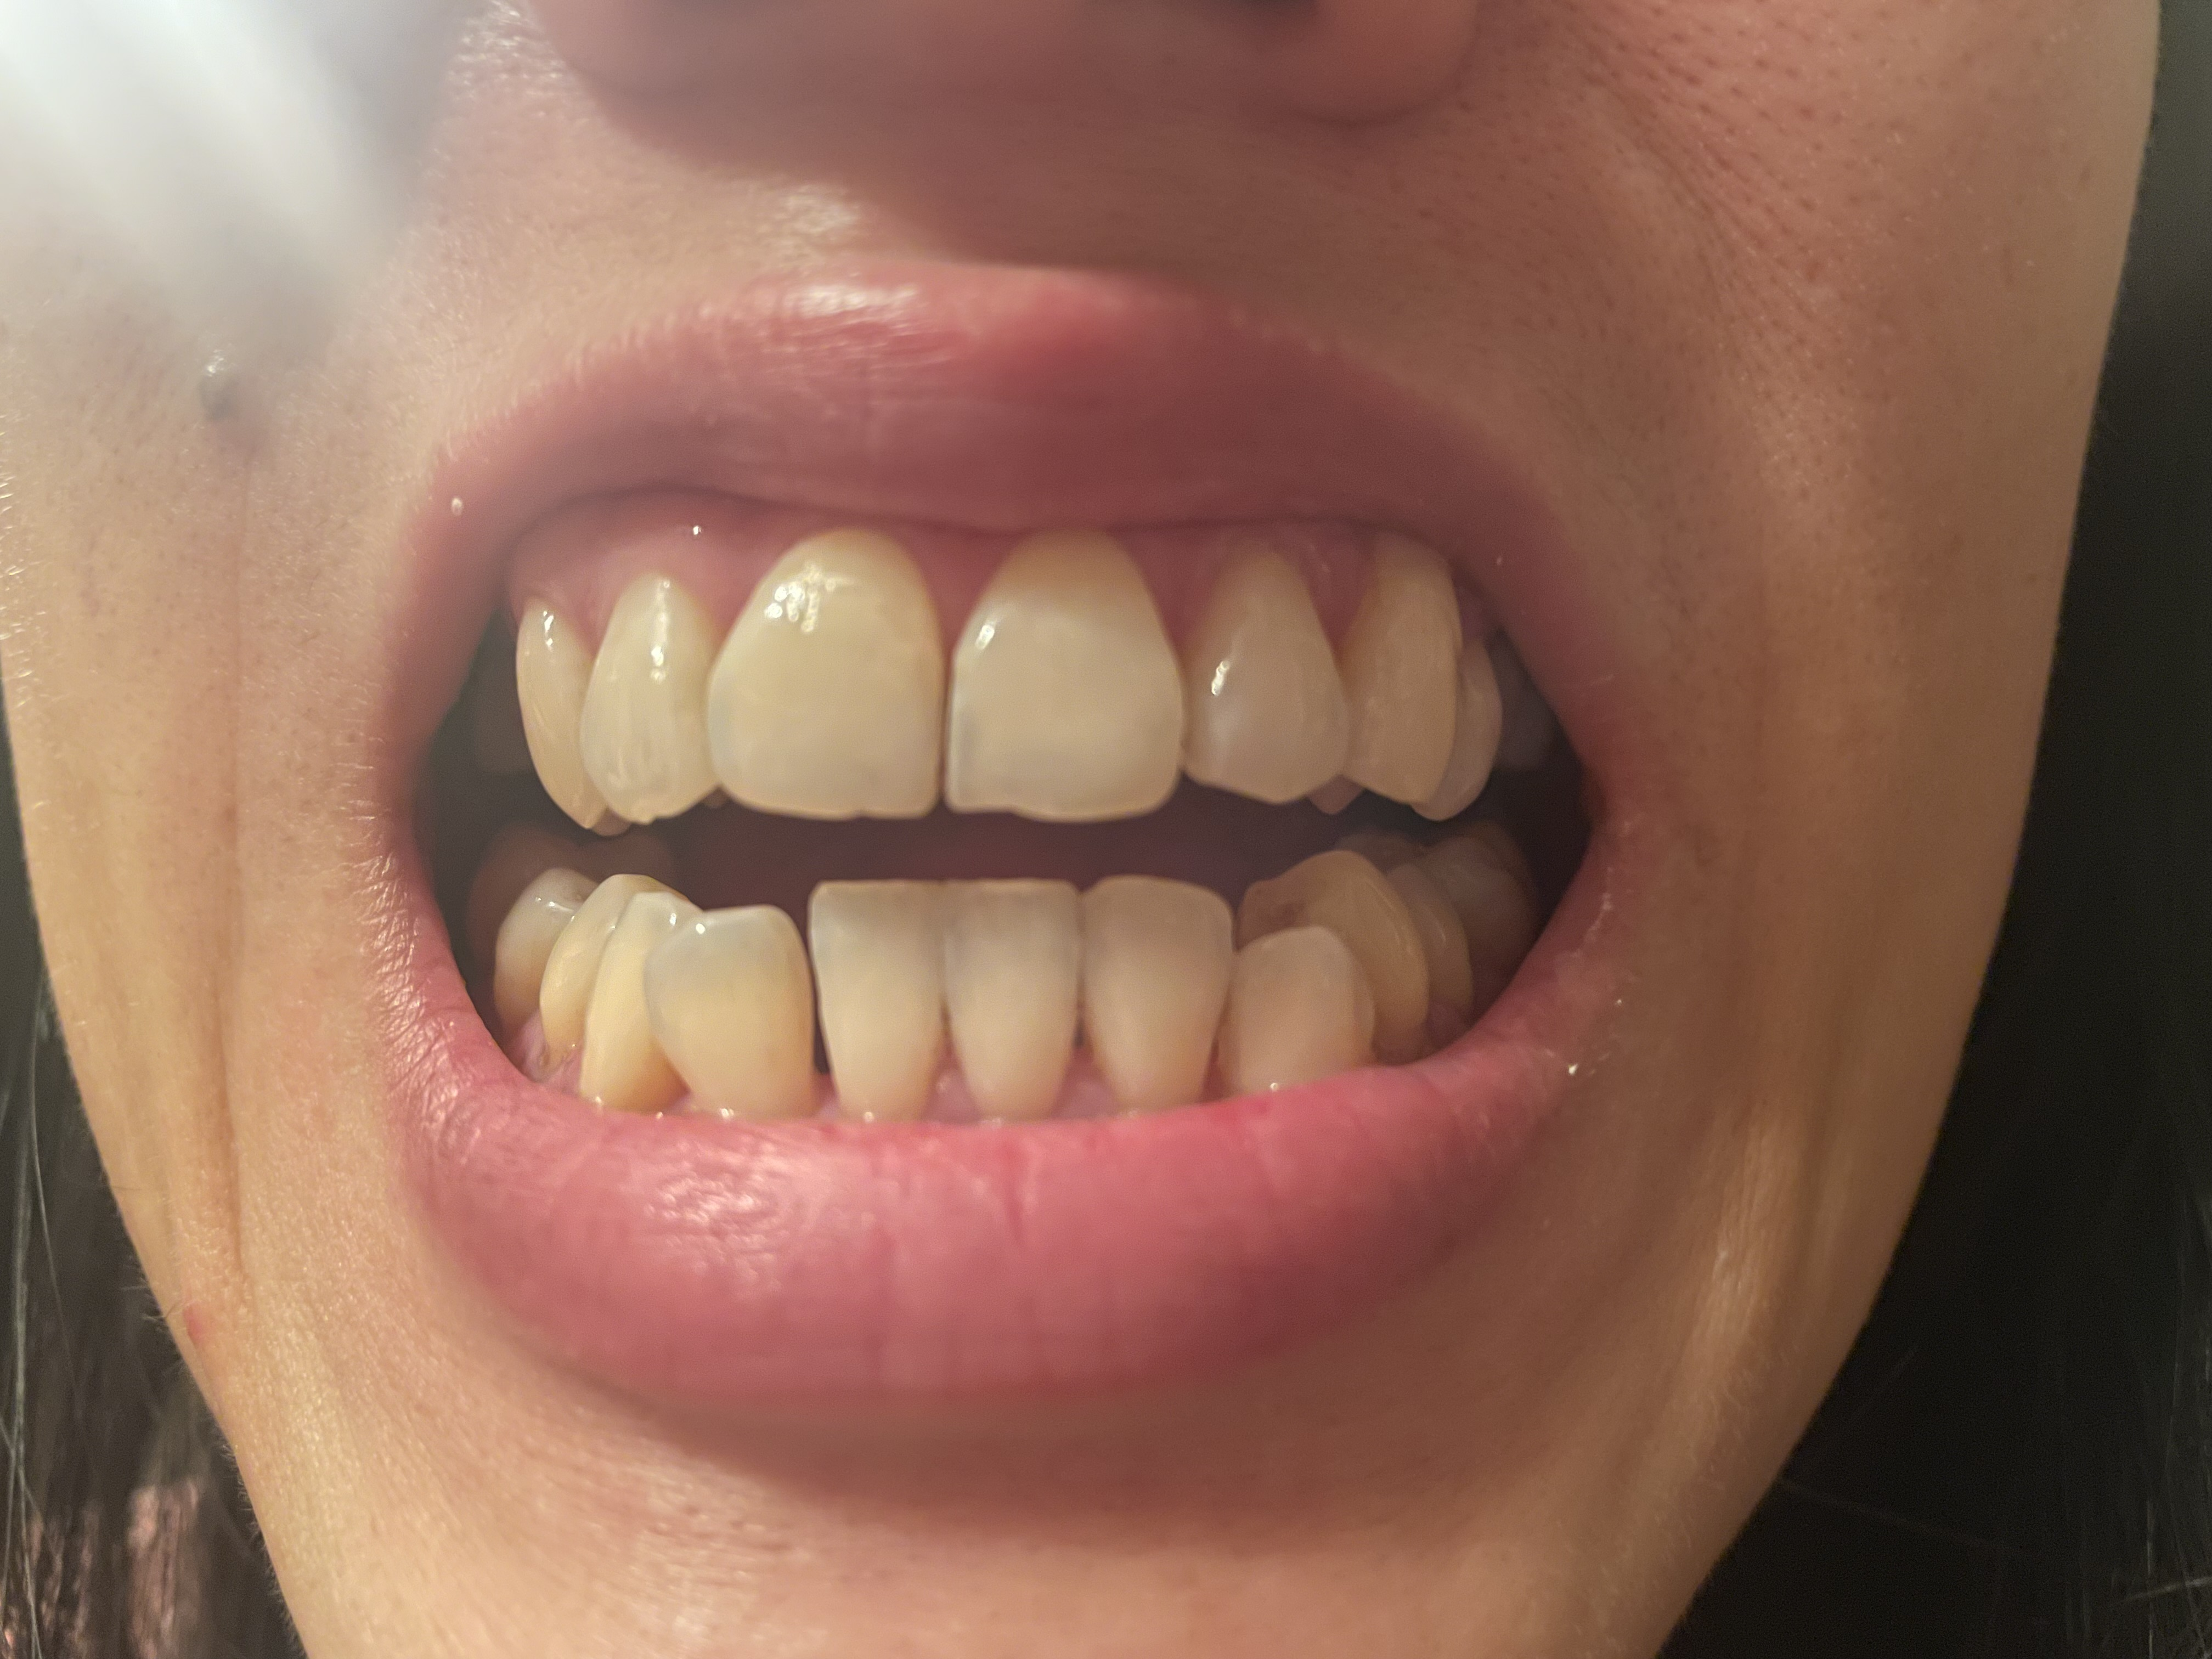teeth: (961, 525, 1176, 810), (714, 537, 934, 812), (1200, 547, 1345, 809), (1245, 835, 1437, 1030), (805, 882, 944, 1115), (660, 904, 812, 1115), (582, 575, 709, 821), (1087, 882, 1226, 1103), (944, 878, 1071, 1117), (1357, 540, 1460, 812), (575, 899, 690, 1103), (1228, 924, 1366, 1089), (521, 619, 585, 831)
